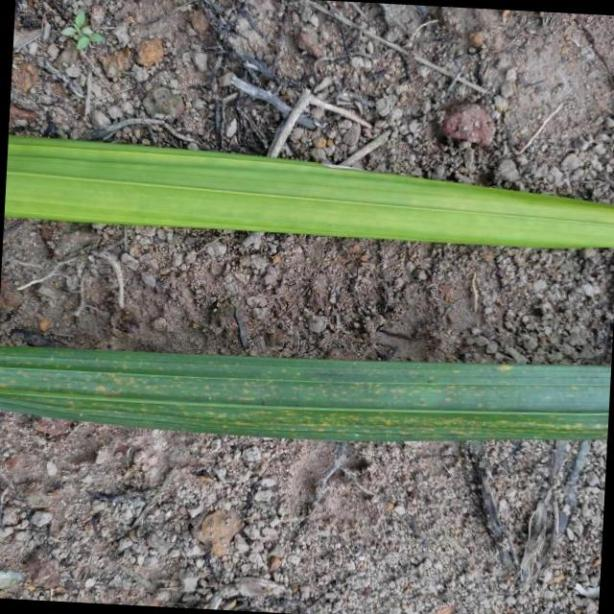nitrogen: (5, 130, 614, 254), (0, 340, 614, 444)
